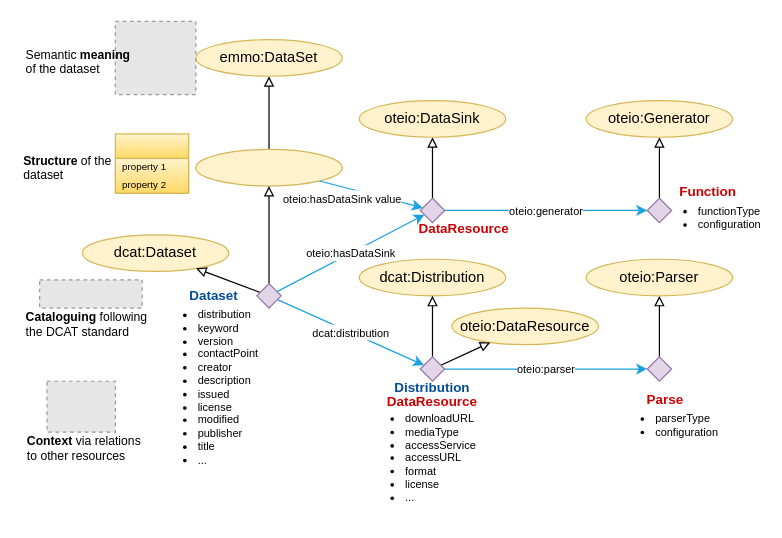
Image size: 782x538. Some labels were removed from this diagram. Grey dashed boxes stand in for pictures. The shapes that lost their labels are listed below. From the top down, each one's box as (x1, y1, x2, y2) in pixels, then its label:
(114, 133, 189, 193): Datamodel
(195, 148, 342, 186): datasetSubclass
